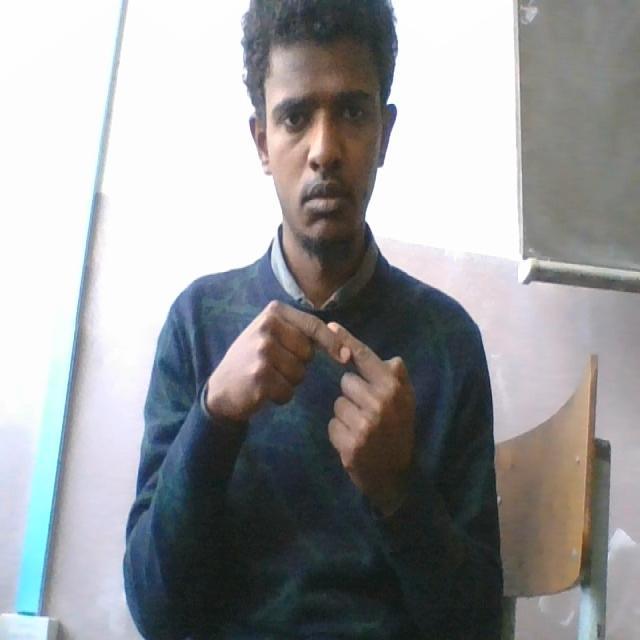eske: (213, 295, 420, 505)
